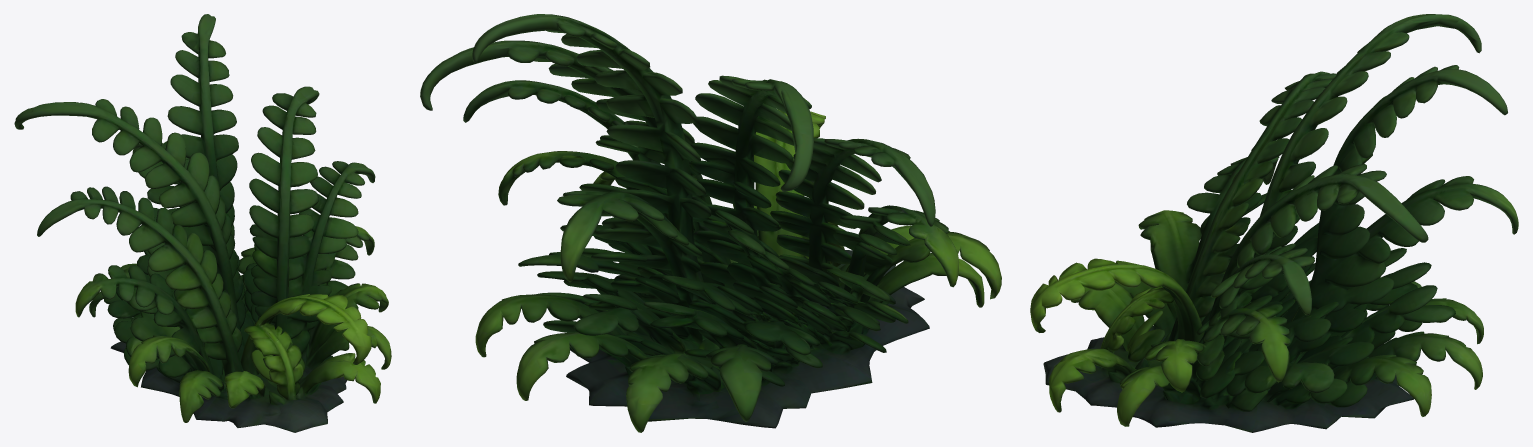
File: fren1.opt.glb
3 views of the same model, side by side, from view 1: azimuth 30°, elevation 25°; view 2: azimuth 150°, elevation 25°; view 3: azimuth 270°, elevation 25° (orthographic). The views are drawn at different scales.
Parts seen in each view (by area): view 1: node_0; view 2: node_0; view 3: node_0.
Part boxes in pixels (<box>): node_0: <box>14,14,391,432</box>; node_0: <box>420,14,1001,432</box>; node_0: <box>1030,14,1518,432</box>.
Size of the model in its own units: 0.926 by 0.7353 by 0.9619.
Materials: 1 (1 with a texture image).
